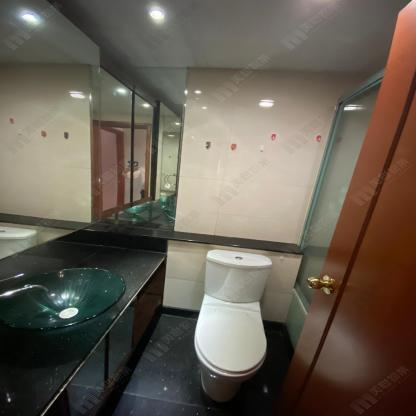Toilet: (193, 249, 276, 403)
Toilet Sink: (0, 267, 125, 335)
